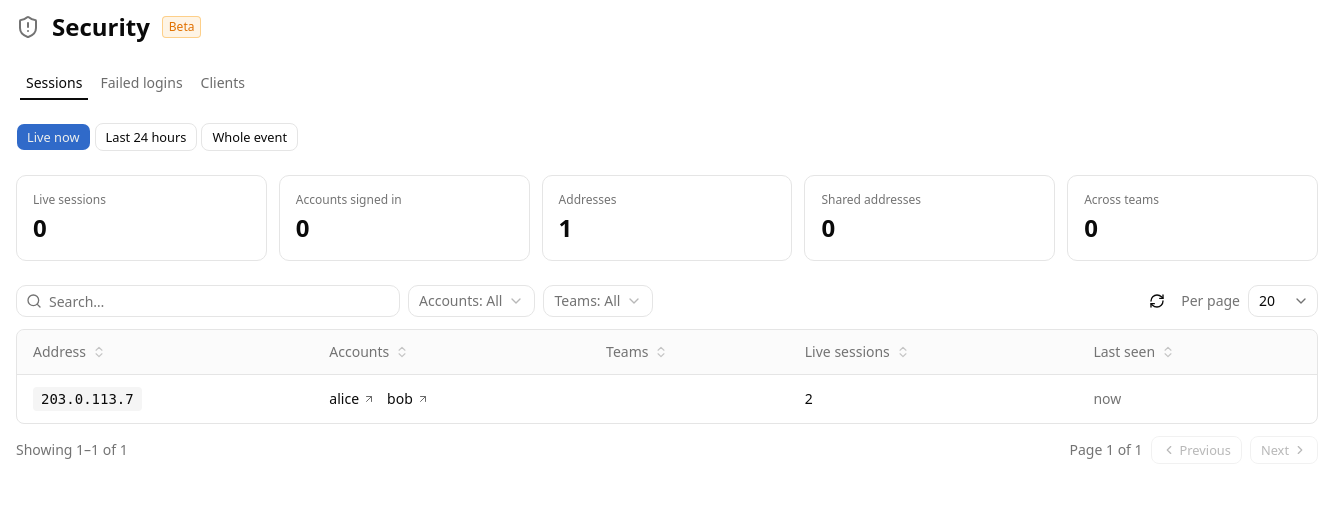
Scenario: narrows failed logins to the ones matching an account
The image size is (1335, 526).
Click the tab "Failed logins" at (142, 83), box left=93, top=70, right=190, bottom=96
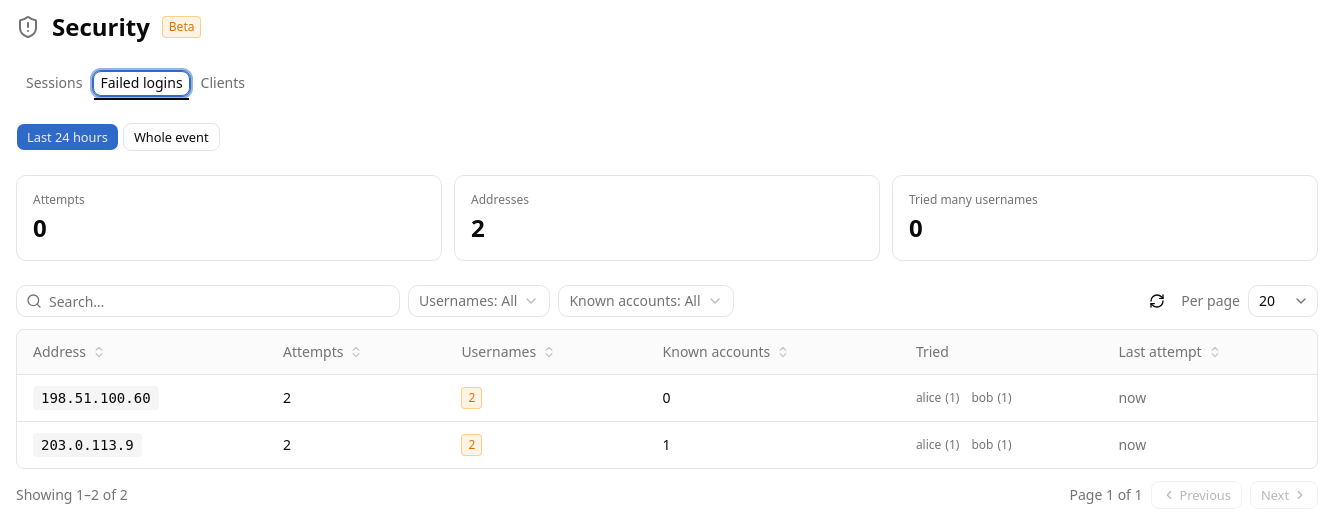
Check: the text "198.51.100.60" is shown, box left=33, top=386, right=159, bottom=410
Click the button "Known accounts: All" at (646, 301), box left=558, top=285, right=734, bottom=317
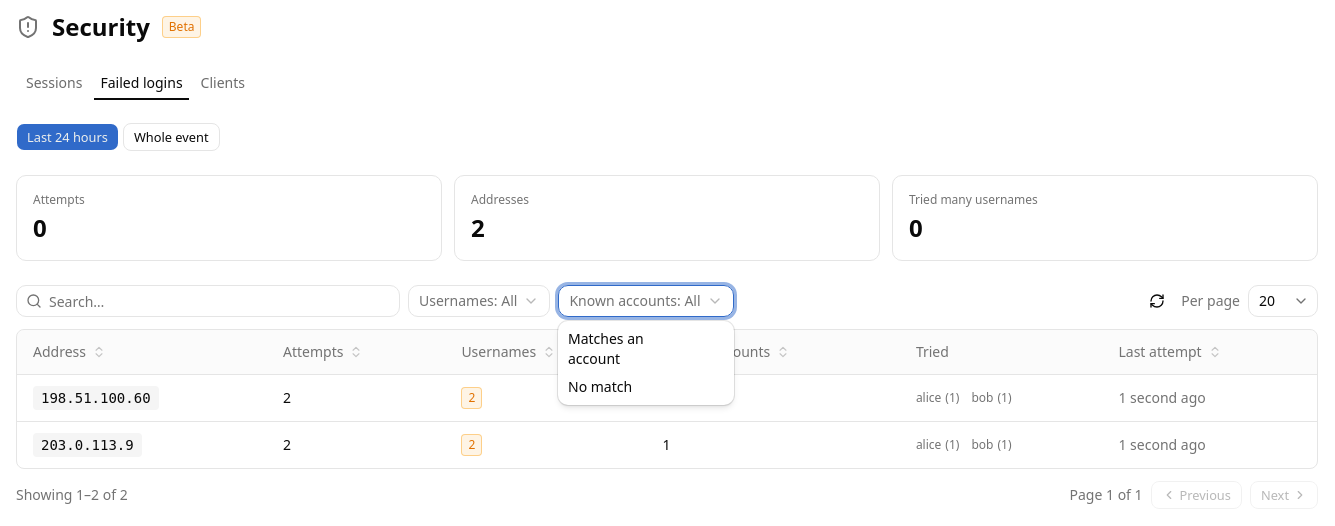
Click the menu item "Matches an account" at (606, 348), box left=568, top=329, right=644, bottom=368
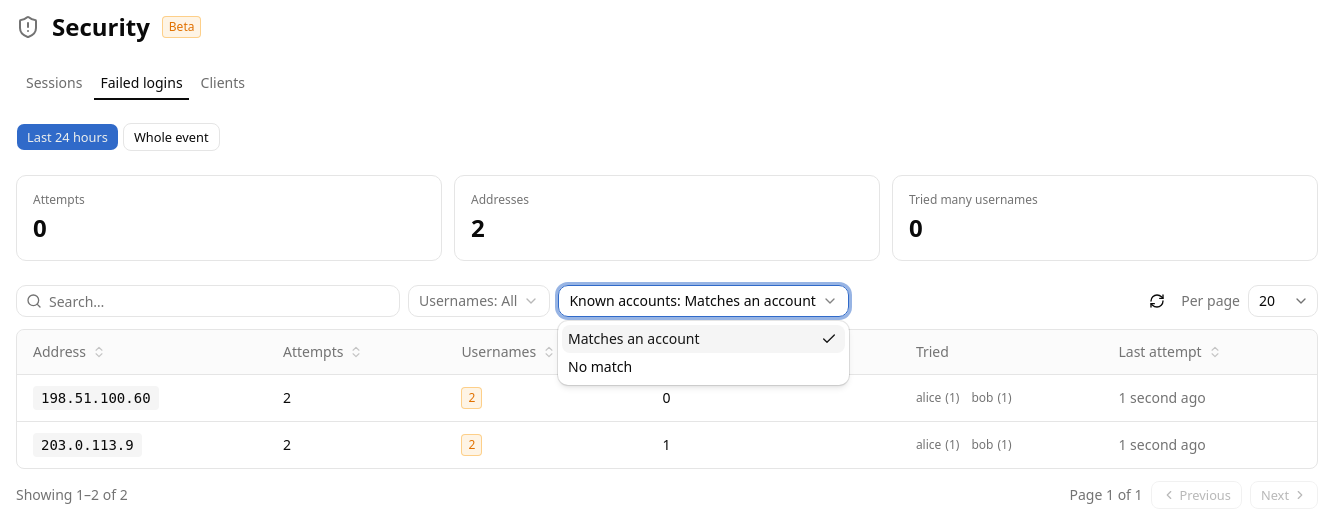
Press Escape
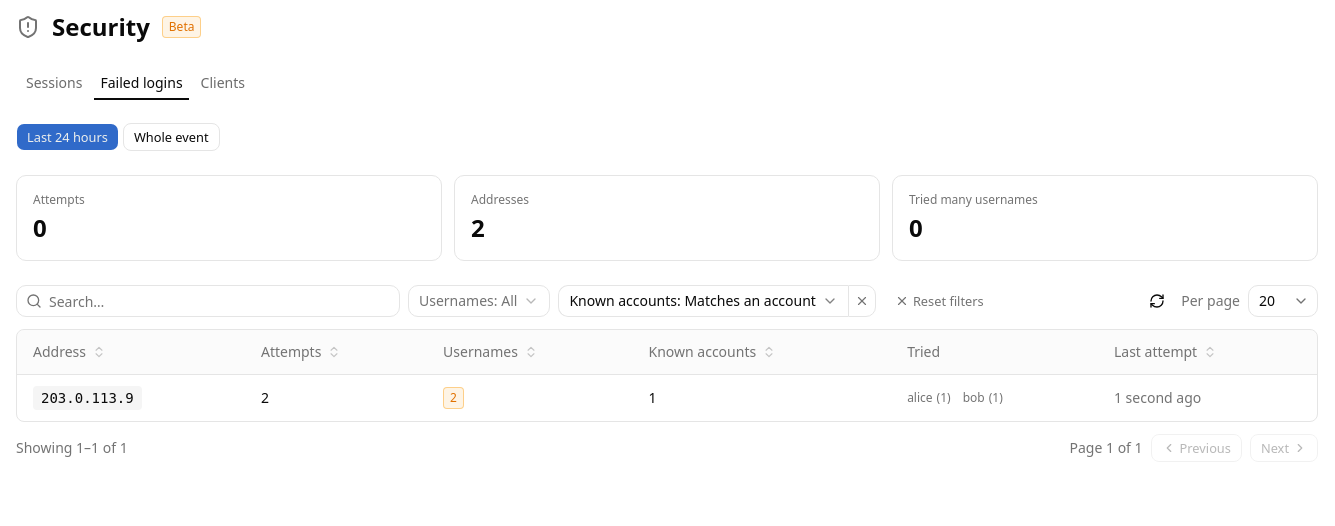
Check: the text "203.0.113.9" is shown, box left=33, top=386, right=142, bottom=410
Check: the text "198.51.100.60" is gone
